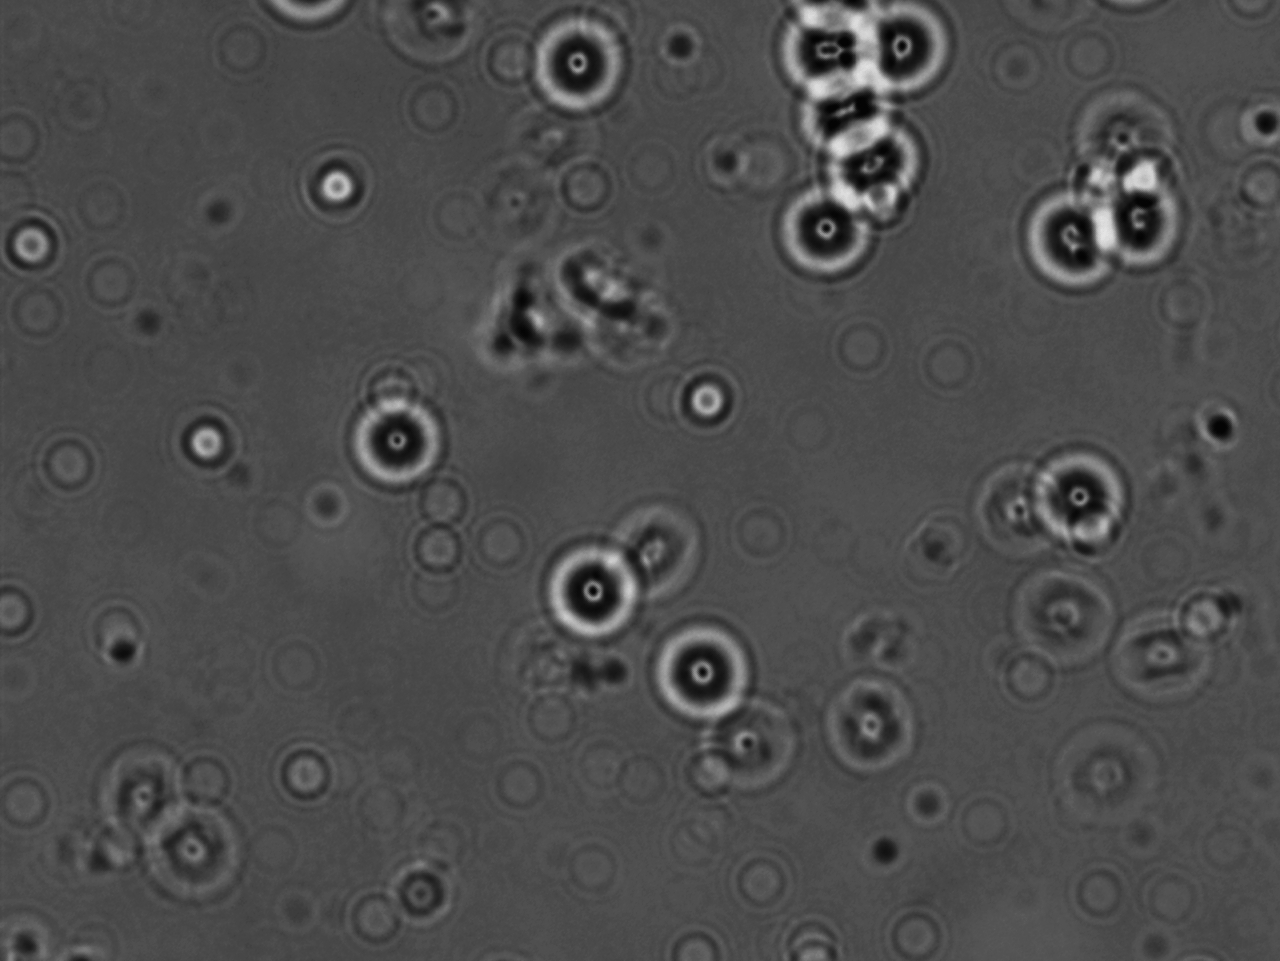depth:-8: (327, 383, 456, 512), (532, 528, 665, 648), (1021, 433, 1137, 570), (643, 613, 768, 735), (1009, 180, 1128, 307), (760, 175, 888, 291), (521, 10, 652, 120), (838, 7, 972, 108), (816, 105, 933, 218), (759, 6, 878, 112), (1085, 171, 1197, 281), (770, 72, 889, 173)
